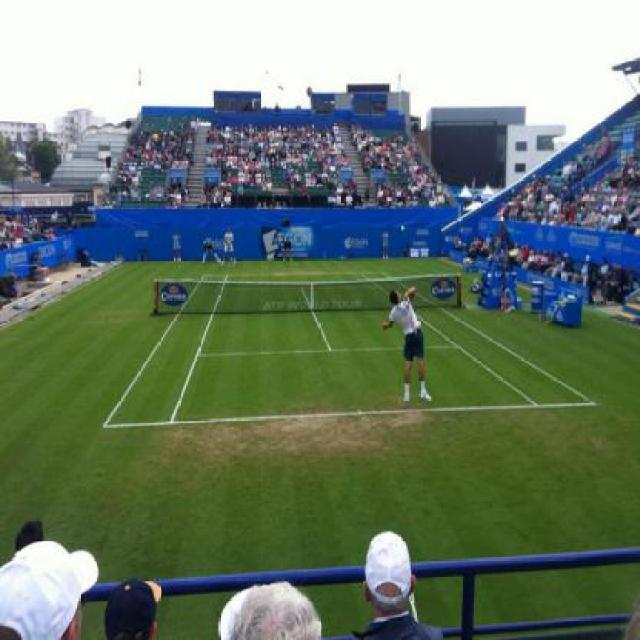Person: (1, 118, 639, 314), (0, 538, 100, 638), (360, 528, 431, 630), (381, 286, 432, 402), (219, 583, 323, 639), (106, 576, 162, 632), (28, 253, 52, 281), (172, 232, 180, 262), (381, 229, 388, 260), (301, 150, 308, 168), (394, 188, 400, 203), (273, 137, 279, 151), (280, 148, 286, 160), (406, 139, 411, 150)
